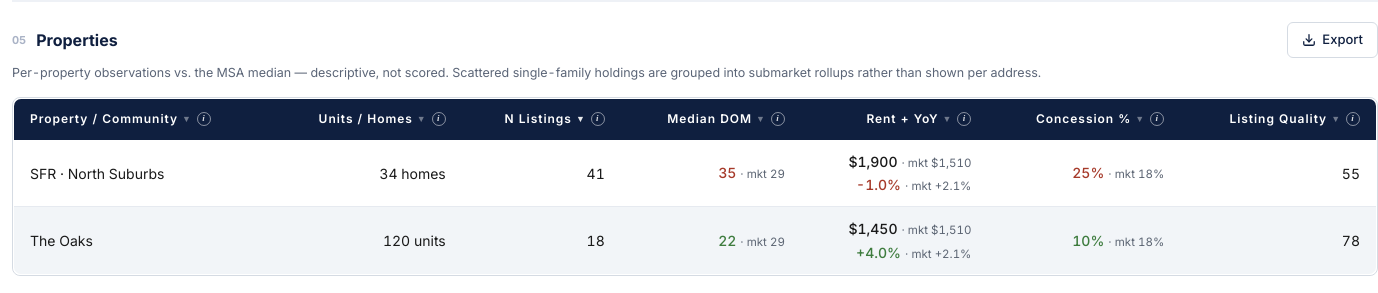
Test: PropertyDetailSection › clicking the Median DOM header sorts rows by DOM (ascending first click)
This screenshot has width=1378, height=293.
Check: the row that starts with "SFR · North Suburbs" is shown, box [30,164,164,182]
Click the button "Median DOM ▼" at x=717, y=119, box [667,110,766,128]
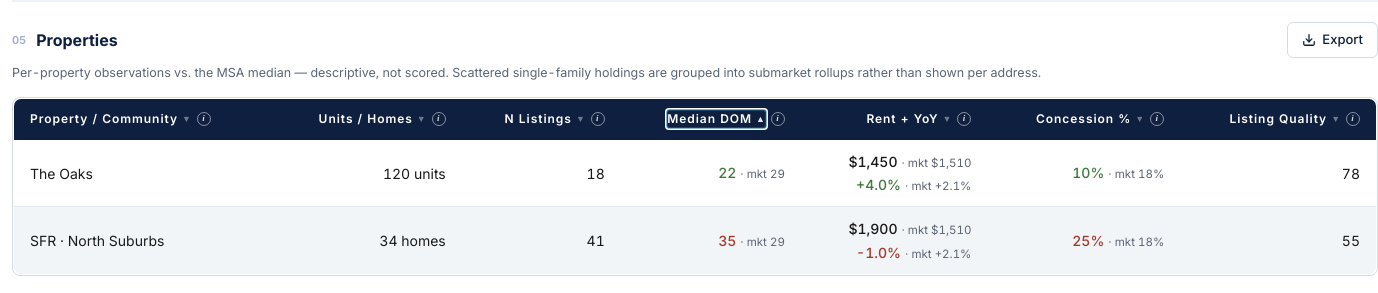
Check: the row that starts with "The Oaks" is shown, box [30,164,93,182]
Check: the row that starts with "SFR · North Suburbs" is shown, box [30,232,164,249]
